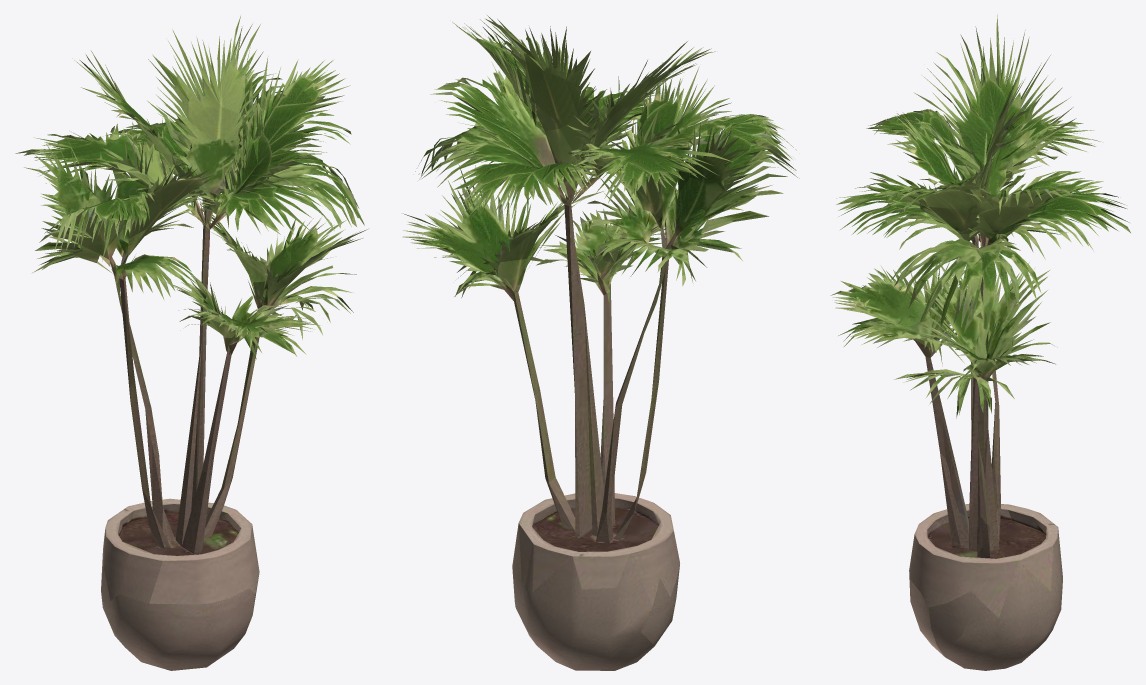
Rendered from kentia.glb.
The picture shows the model from 3 angles, left to right: view 1: azimuth 30°, elevation 25°; view 2: azimuth 150°, elevation 25°; view 3: azimuth 270°, elevation 25°; orthographic projection. The views are drawn at different scales.
Visible parts, largest first — view 1: plant; view 2: plant; view 3: plant.
Part boxes in pixels (box(x1,y1,x2,y2)): plant: box(15, 16, 367, 670); plant: box(402, 15, 799, 670); plant: box(830, 14, 1130, 670).
Size of the model in its own units: 1.15 by 2 by 0.9214.
1 material, 1 textured.
